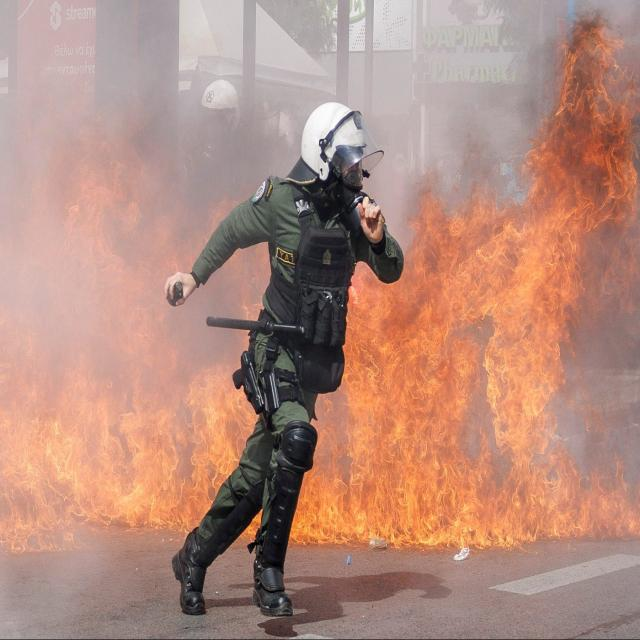police: (147, 64, 450, 640)
